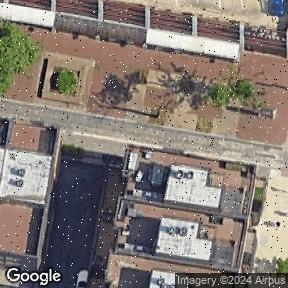vegetation: (0, 22, 41, 95), (208, 79, 255, 106), (58, 72, 76, 94), (276, 259, 288, 272)
